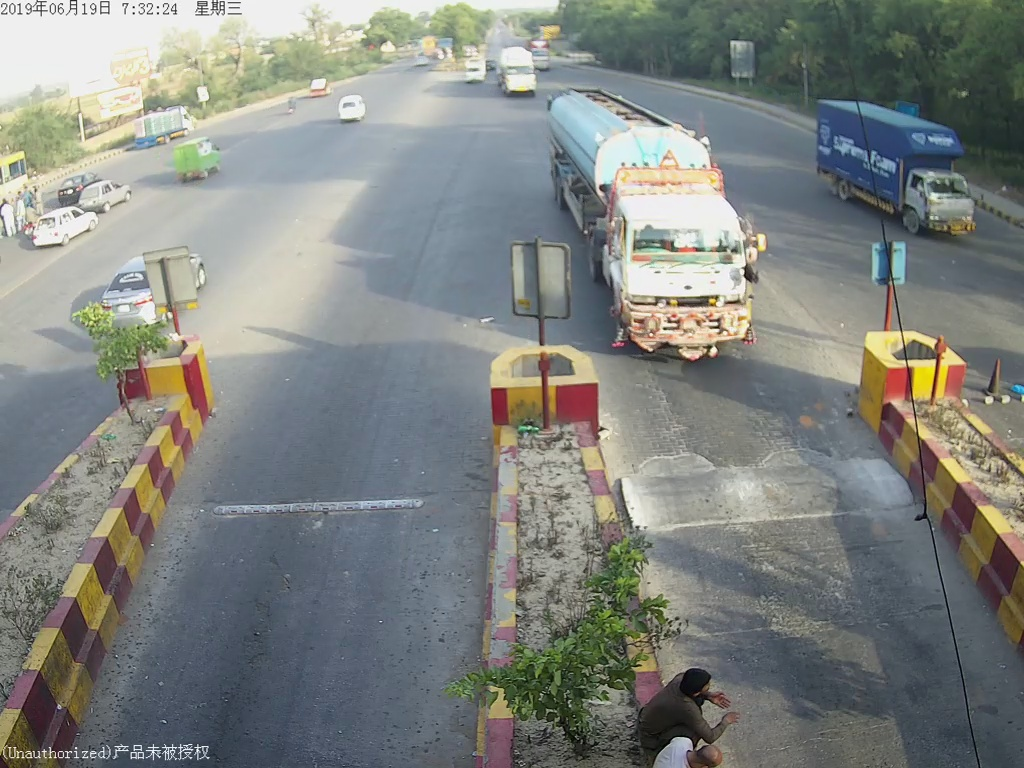Cat-5: (549, 93, 775, 349)
